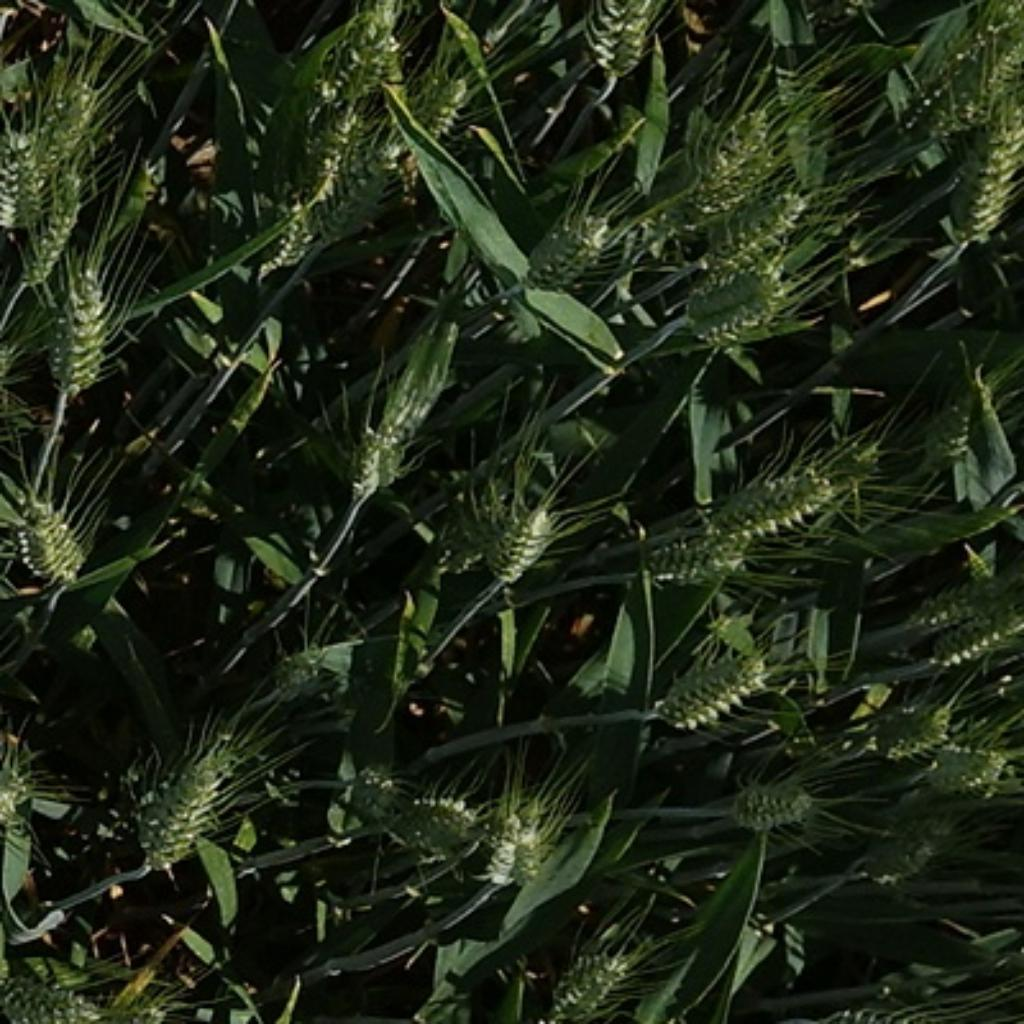0-0: (112, 719, 243, 875), (335, 343, 453, 504), (320, 762, 501, 862), (422, 473, 576, 583), (893, 20, 1024, 145), (698, 454, 846, 554), (673, 243, 801, 345), (640, 634, 773, 732), (40, 253, 120, 396), (862, 788, 975, 885), (706, 186, 824, 276), (680, 107, 773, 220), (514, 197, 622, 294), (322, 138, 401, 268), (284, 94, 371, 212), (947, 120, 1024, 253), (473, 785, 563, 896), (0, 476, 92, 583), (15, 166, 87, 296), (542, 939, 654, 1021), (317, 12, 399, 122), (0, 112, 58, 253), (583, 2, 670, 89), (48, 61, 112, 174), (906, 568, 1024, 629), (911, 373, 988, 465), (394, 58, 476, 143), (0, 954, 99, 1024), (721, 765, 821, 834), (865, 683, 957, 757), (913, 606, 1013, 673), (921, 724, 1011, 796), (629, 535, 755, 586), (261, 634, 343, 711), (812, 418, 886, 498), (263, 204, 325, 276), (79, 993, 208, 1022), (0, 747, 38, 834)
